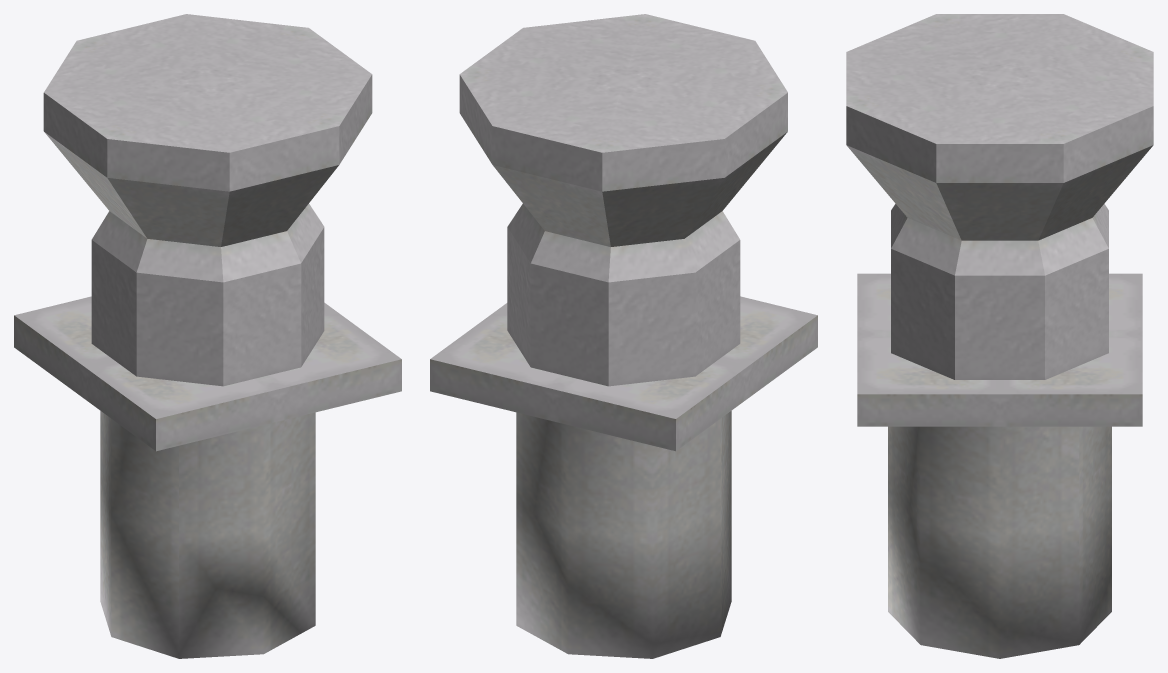
File: general_obj_bigtower07.glb
3 renders of one model, left to right at view 1: azimuth 30°, elevation 25°; view 2: azimuth 150°, elevation 25°; view 3: azimuth 270°, elevation 25°, orthographic.
Parts seen in each view (by area): view 1: Sphere01; view 2: Sphere01; view 3: Sphere01.
Part boxes in pixels (x1,y1,x2,y2): Sphere01: [14, 14, 401, 658]; Sphere01: [430, 14, 817, 658]; Sphere01: [846, 14, 1153, 658].
Size of the model in its own units: 4.31 by 8.28 by 4.31.
1 material, 1 textured.
